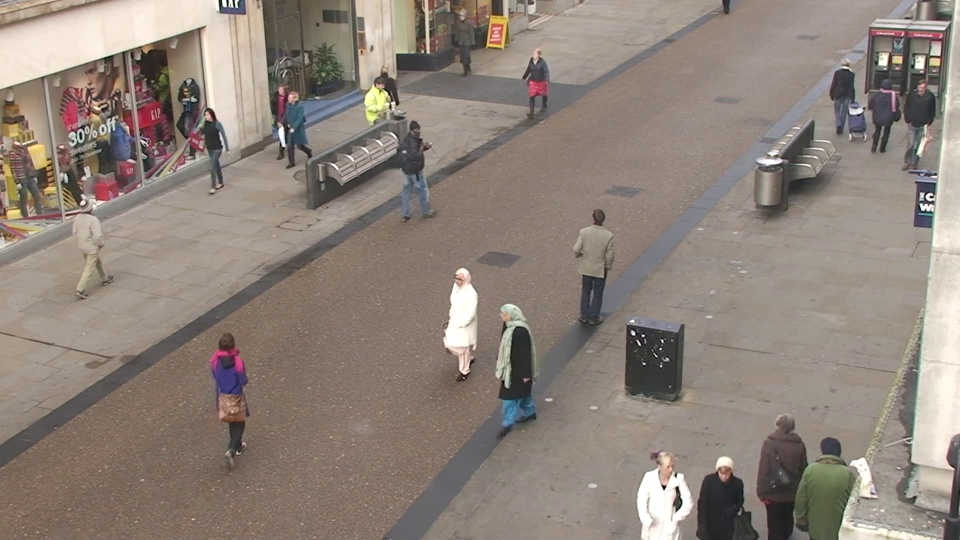pedestrian: (203, 323, 262, 470), (751, 401, 812, 540), (795, 423, 859, 540), (486, 296, 532, 439), (691, 442, 753, 540), (636, 439, 696, 540), (443, 260, 488, 394), (67, 193, 118, 307), (579, 204, 617, 324), (897, 78, 940, 168), (862, 78, 902, 167), (195, 104, 232, 195), (399, 118, 433, 214), (826, 55, 861, 137), (279, 86, 312, 172), (269, 80, 301, 164), (373, 72, 403, 155), (371, 60, 400, 140), (524, 45, 550, 122), (455, 7, 479, 72)
